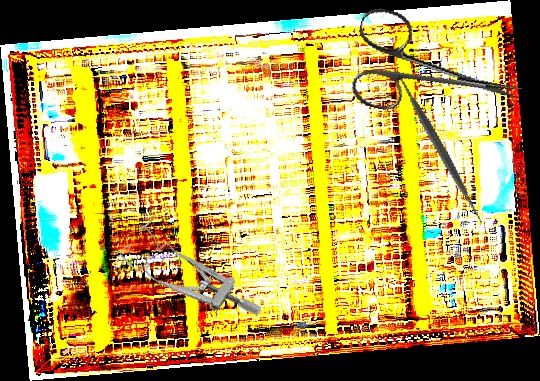Iris Scissors: (343, 4, 533, 140)
Spatula Surgical: (352, 60, 526, 234)
Speculum: (115, 206, 265, 354)
